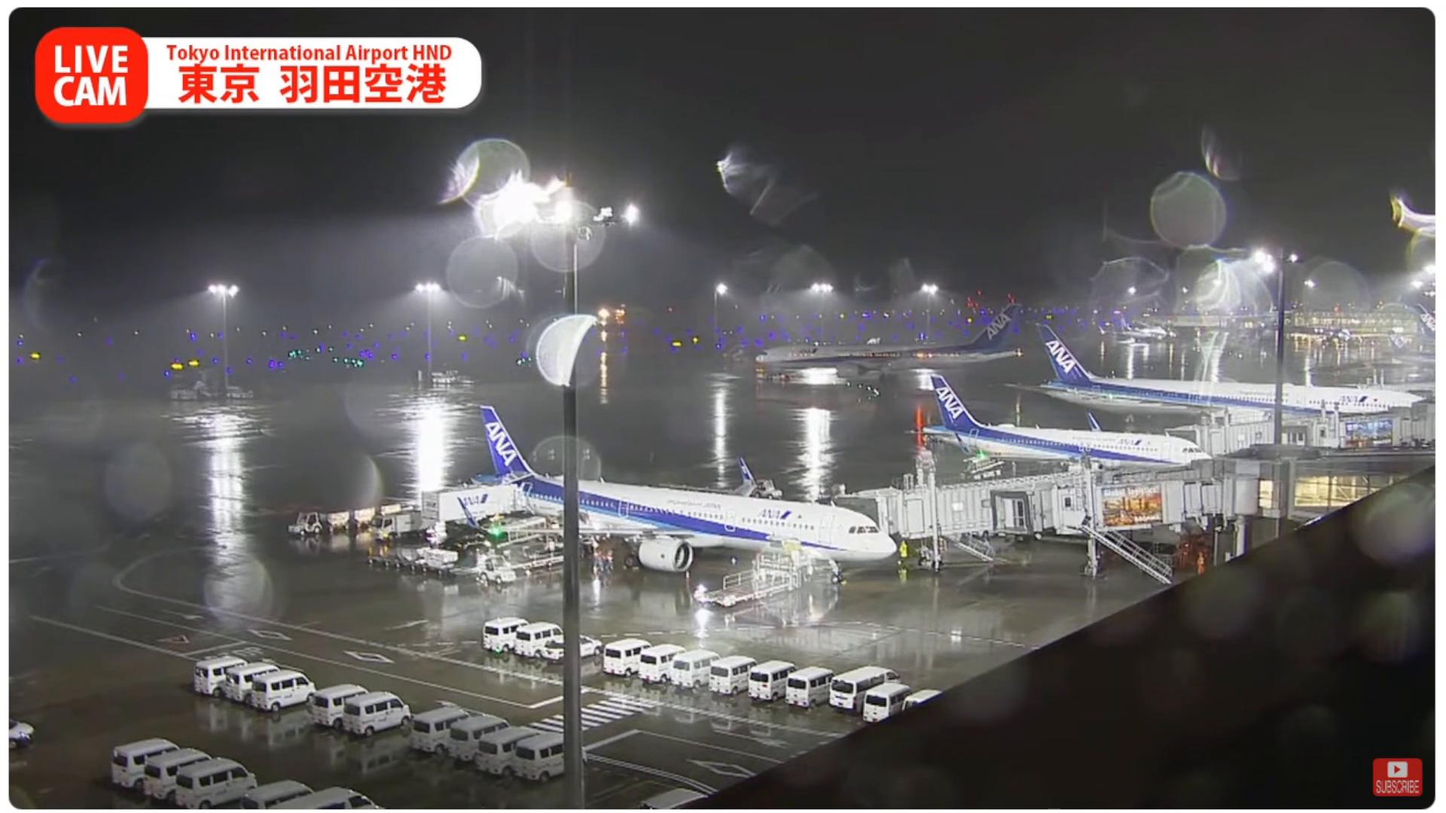Aerobridge: (837, 461, 1193, 540), (988, 473, 1227, 539)
Airplane: (461, 407, 899, 586)
Baggage truck: (367, 509, 425, 541)
Catering: (421, 483, 529, 555)
Dolly: (321, 500, 420, 533), (364, 554, 457, 575)
JCPL: (692, 533, 821, 610)
Skyloader: (493, 513, 597, 570)
Tractor: (478, 557, 516, 584), (287, 511, 325, 538)
Window: (1289, 476, 1414, 509)
